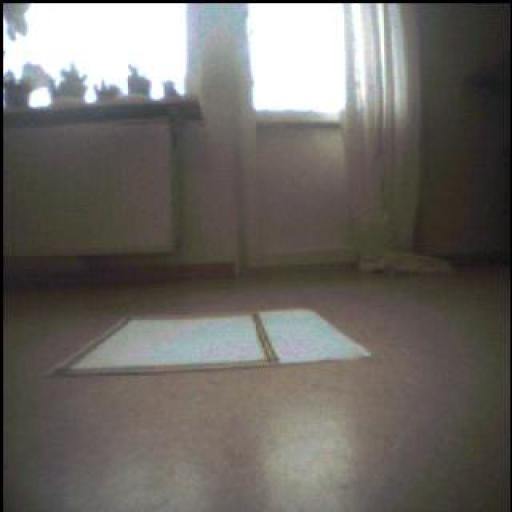Pad: (45, 306, 379, 370)
